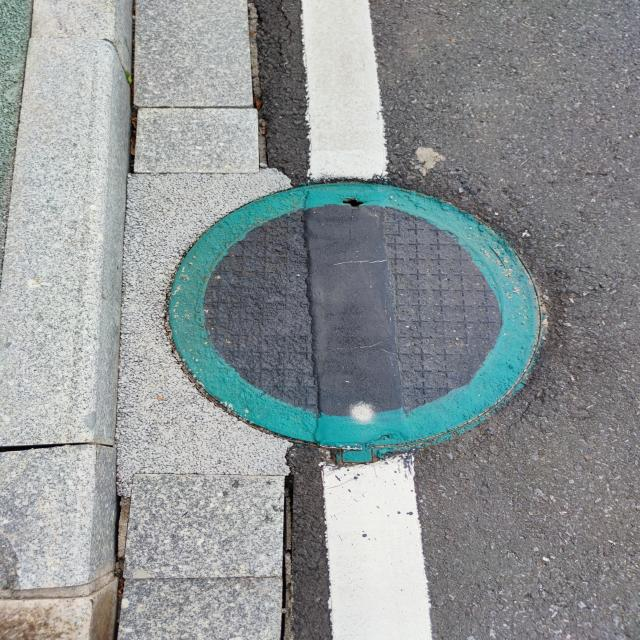Good: (159, 176, 553, 465)
